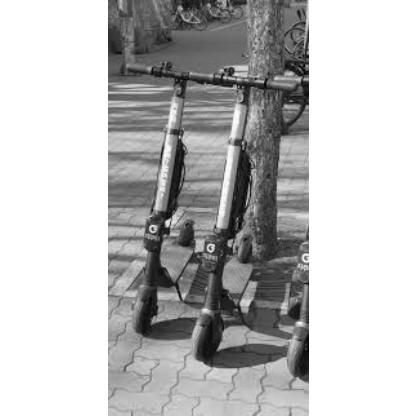bike: (126, 59, 307, 362), (172, 1, 208, 31)
